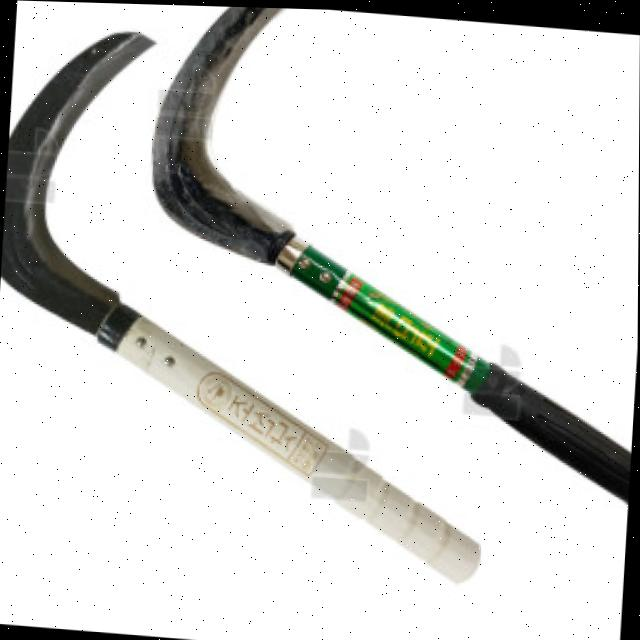sickle: (0, 19, 498, 600), (146, 3, 640, 513)
